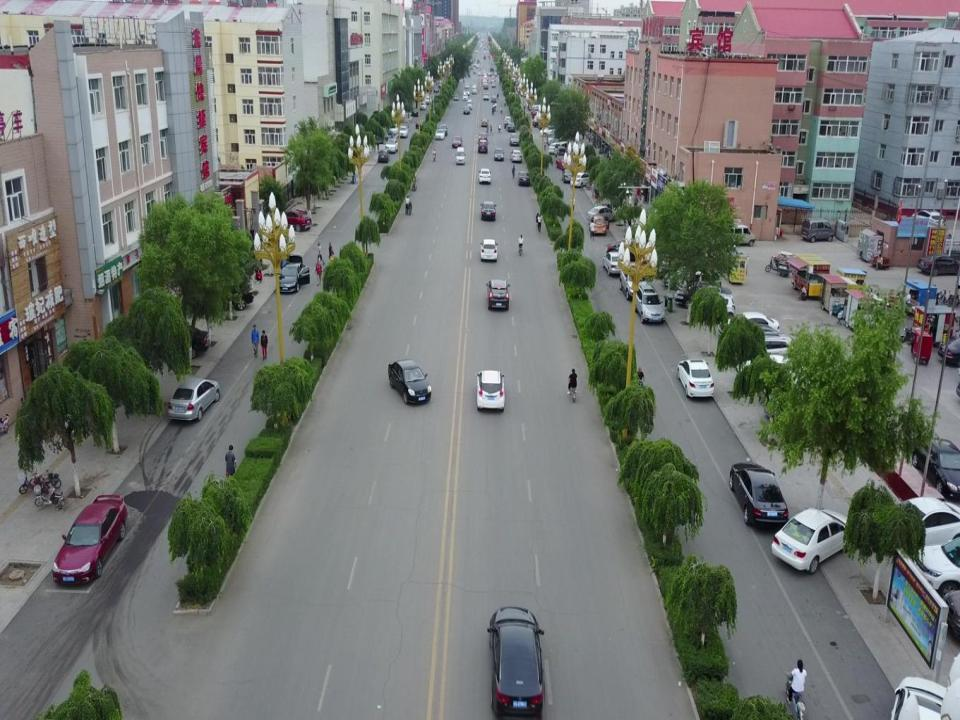car: (51, 493, 127, 587), (488, 606, 545, 716), (771, 506, 855, 576), (878, 496, 960, 546), (729, 461, 789, 528), (912, 436, 960, 502), (914, 536, 960, 598), (167, 376, 221, 424), (148, 323, 210, 358), (388, 358, 432, 406), (735, 333, 797, 363), (718, 312, 779, 336), (677, 360, 714, 399), (673, 283, 731, 307), (277, 253, 310, 294), (202, 284, 253, 310), (633, 283, 665, 323), (476, 368, 504, 413), (693, 294, 736, 320), (916, 253, 960, 276), (619, 264, 647, 300), (727, 324, 782, 341), (486, 280, 510, 312), (278, 209, 312, 231), (586, 204, 620, 222), (603, 252, 627, 276), (479, 238, 498, 263), (570, 172, 596, 188), (589, 214, 609, 234), (480, 201, 496, 221), (555, 154, 574, 170), (517, 170, 531, 187), (562, 168, 578, 182), (385, 138, 398, 154), (478, 168, 491, 184), (493, 148, 505, 162), (477, 140, 488, 154), (509, 133, 520, 147), (378, 150, 390, 162), (387, 122, 399, 134), (510, 150, 522, 162), (452, 136, 463, 148), (434, 129, 445, 140), (398, 126, 408, 138), (438, 124, 448, 136), (478, 132, 488, 144), (415, 119, 426, 129), (506, 121, 516, 132), (410, 107, 418, 118), (480, 118, 488, 127), (504, 117, 512, 126), (419, 102, 427, 110), (463, 106, 470, 115), (483, 91, 489, 101), (491, 94, 497, 104), (462, 92, 468, 101), (453, 93, 459, 101), (433, 86, 439, 92), (464, 84, 470, 89), (483, 84, 489, 89)
van: (801, 218, 835, 242), (721, 224, 756, 247), (454, 146, 466, 166), (425, 94, 431, 105), (472, 84, 477, 95), (467, 99, 472, 110)
